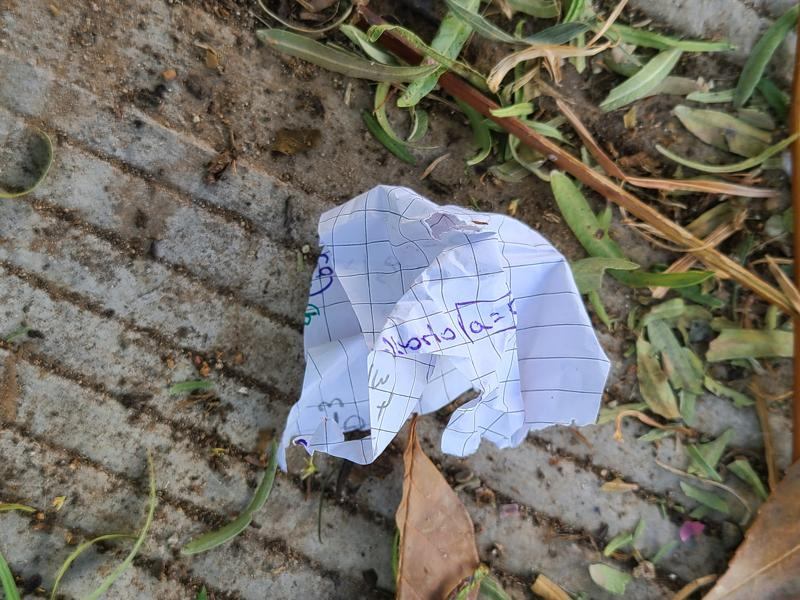papel: (282, 185, 610, 467)
